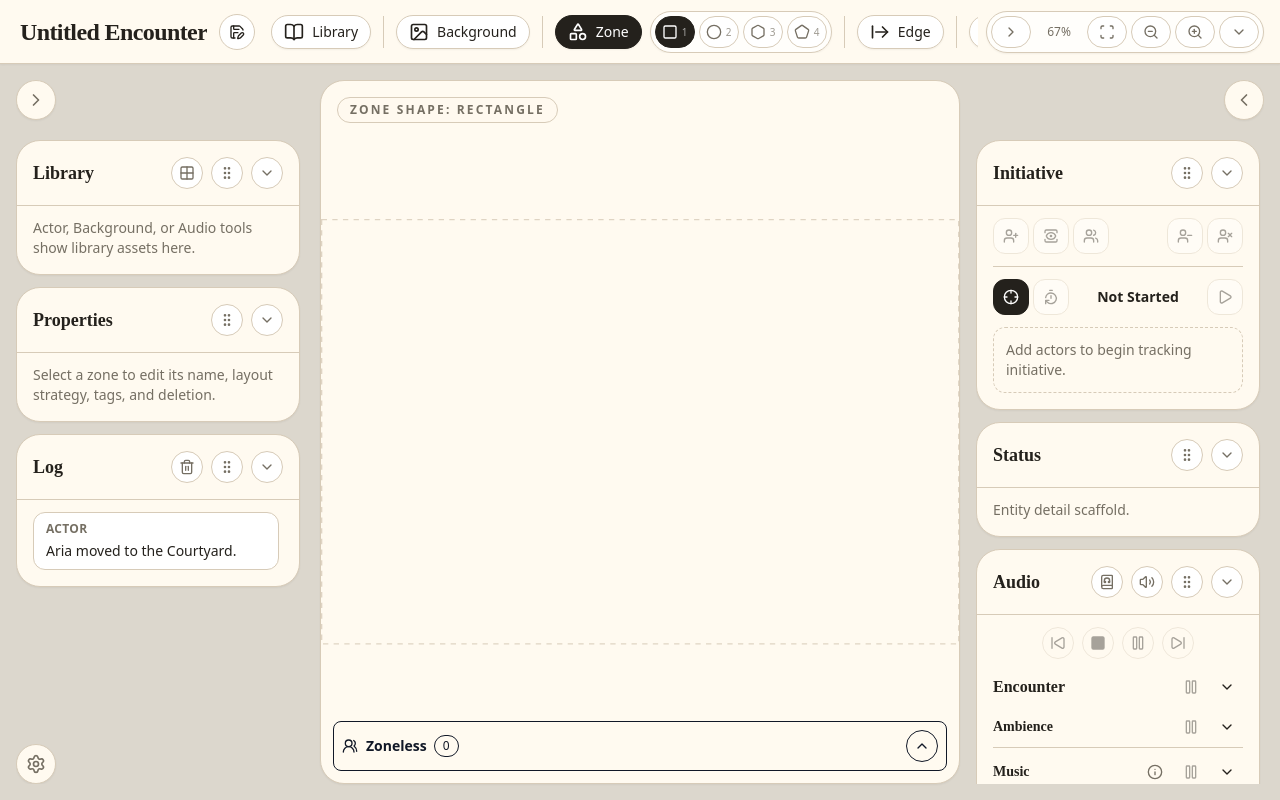
Scenario: PanelsShell › clears the encounter log from the Log panel header
This screenshot has width=1280, height=800.
Click the button named "Clear encounter log": click(187, 467) [171,451,203,483]
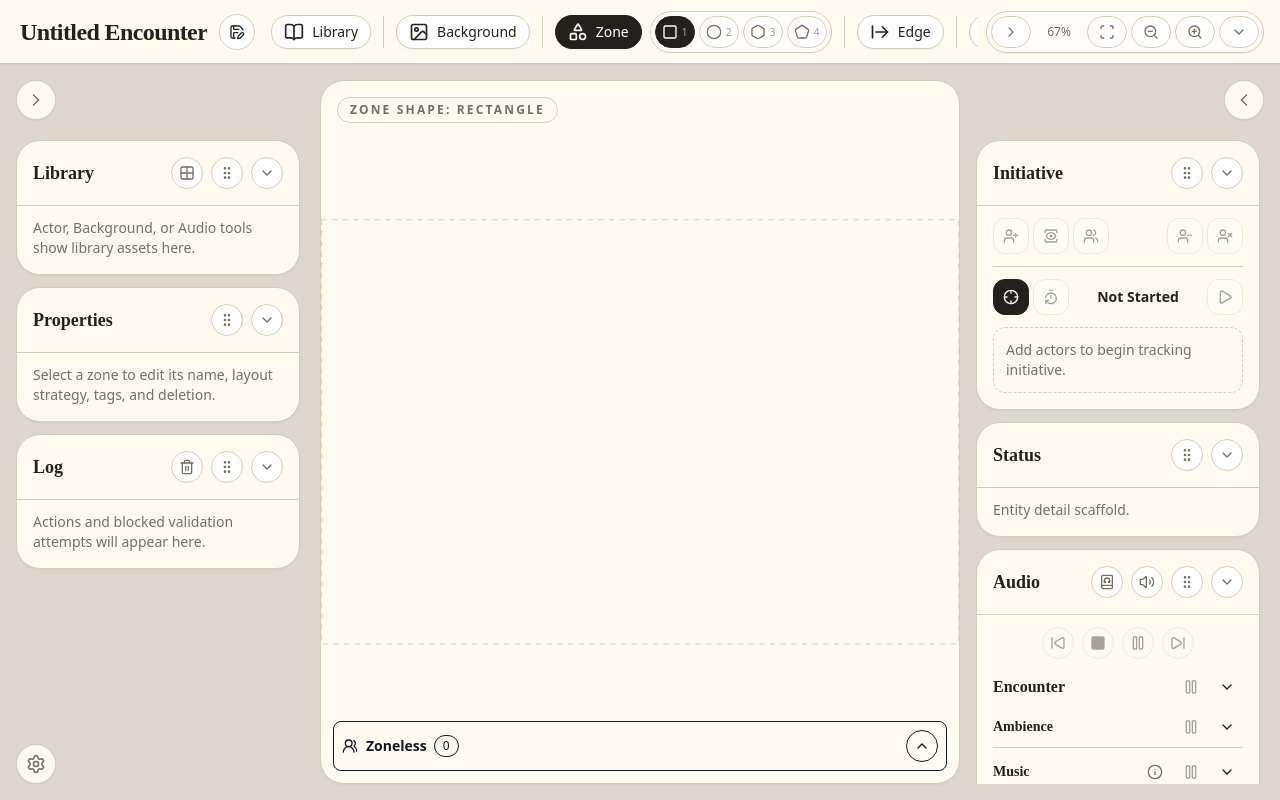
Now the text "Actions and blocked validation attempts will appear here." is shown, box [33,512,233,551]
